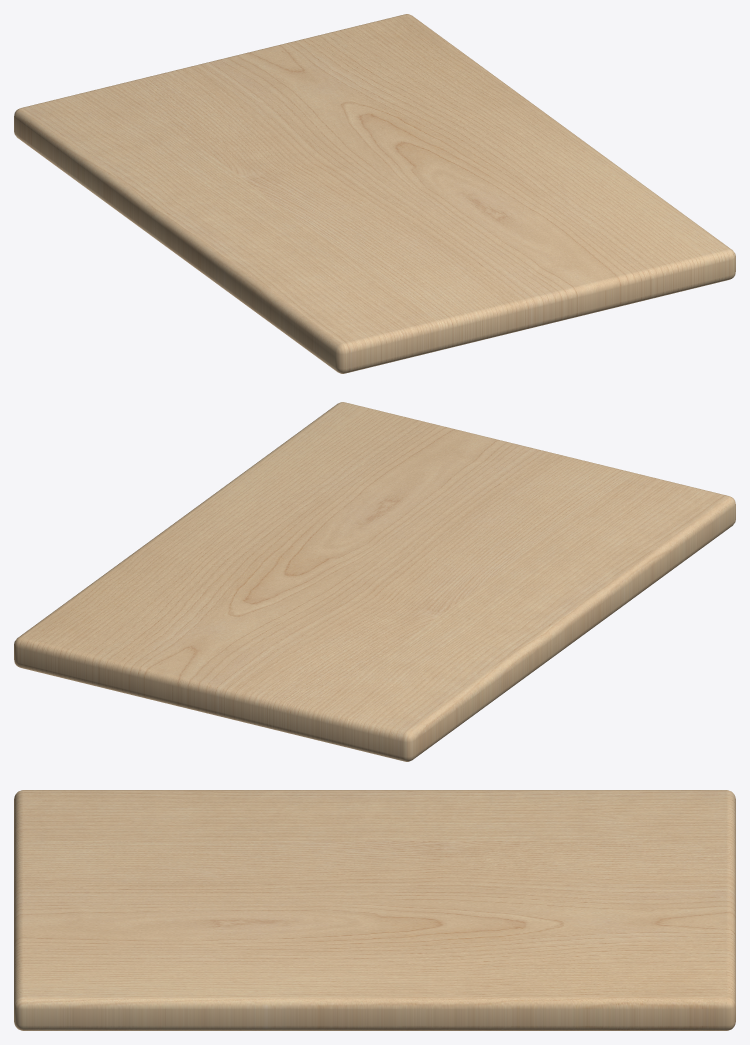
Rendered from Cutting board.FBX.
The picture shows the model from 3 angles, top to bottom: view 1: azimuth 30°, elevation 25°; view 2: azimuth 150°, elevation 25°; view 3: azimuth 270°, elevation 25°; orthographic projection. The views are drawn at different scales.
Visible parts, largest first — view 1: cutting board; view 2: cutting board; view 3: cutting board.
Boxes of the visible parts, <box> form: cutting board: <box>14,14,735,373</box>; cutting board: <box>14,402,735,761</box>; cutting board: <box>14,790,735,1030</box>.
Bounding box in the file's own units: 20.93 × 1.51 × 29.84.
1 material, 1 textured.
